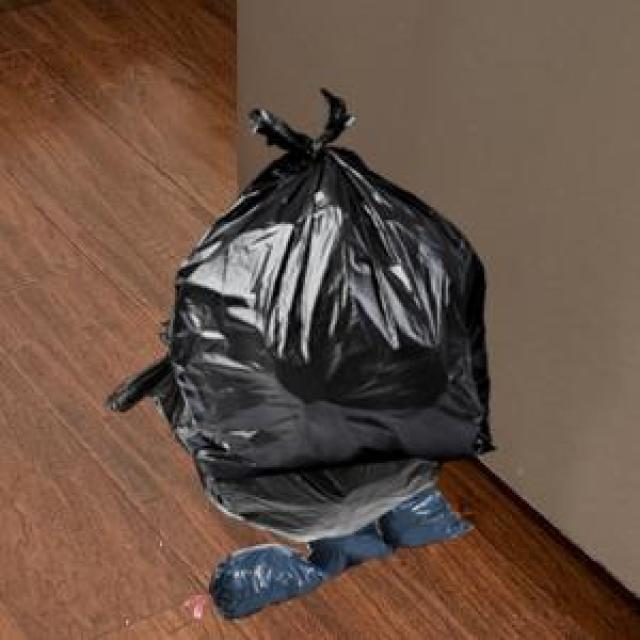Trashbag: (176, 120, 501, 470), (213, 544, 317, 618)
